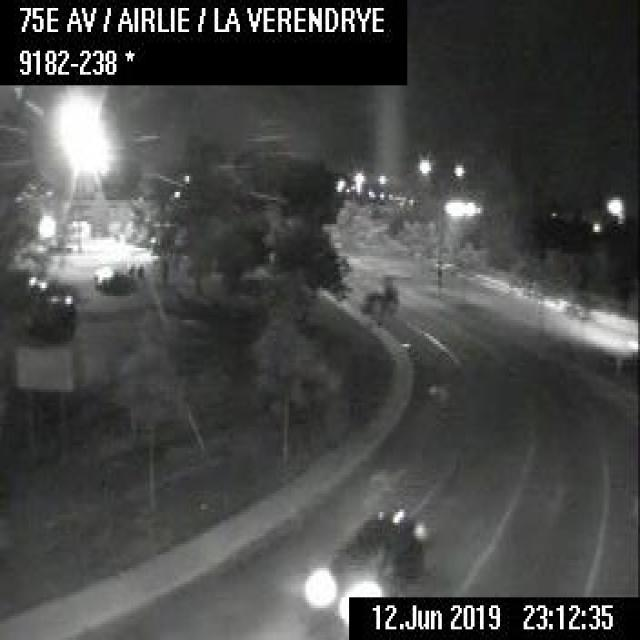vehicle: (300, 503, 424, 624), (90, 264, 134, 294)
